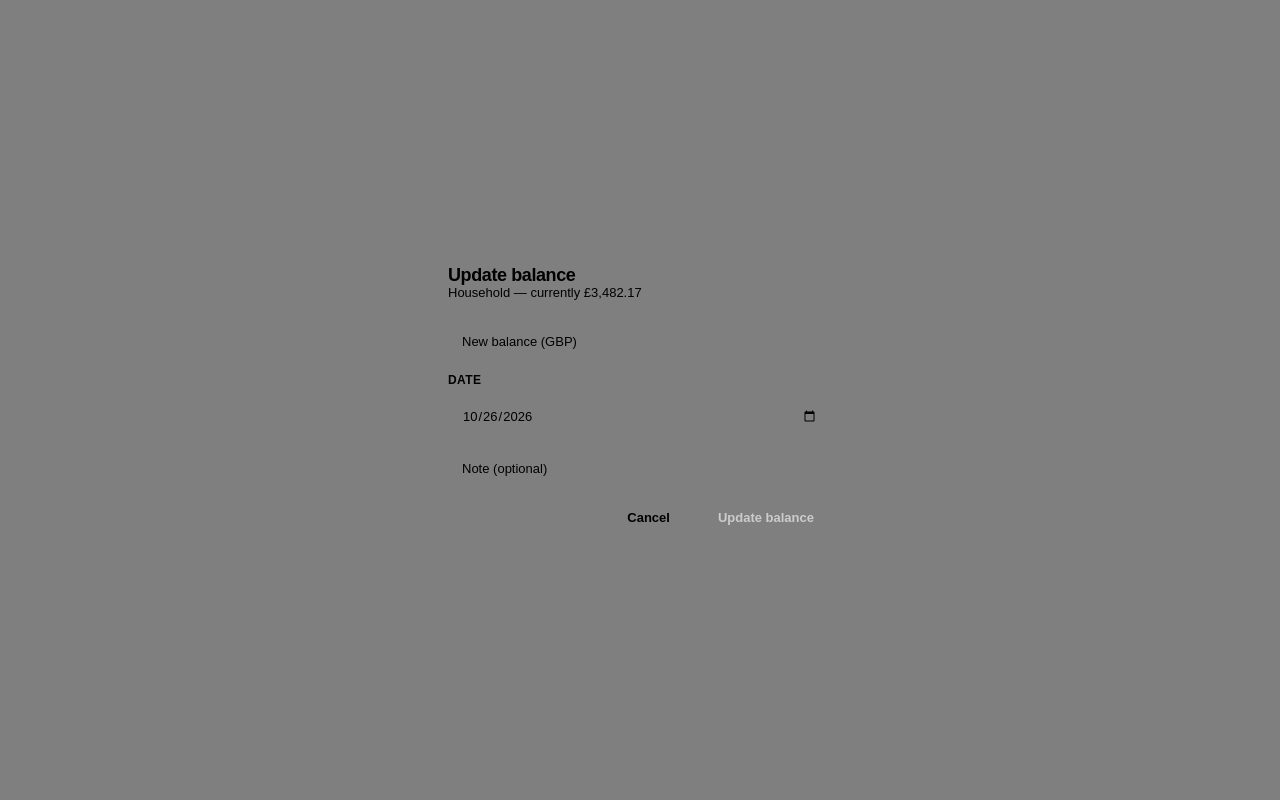
Test: UpdateBalanceModal › won't save a date in the future
This screenshot has width=1280, height=800.
Type "100" into the field labelled "New balance" at [640, 342], box [448, 322, 832, 362]
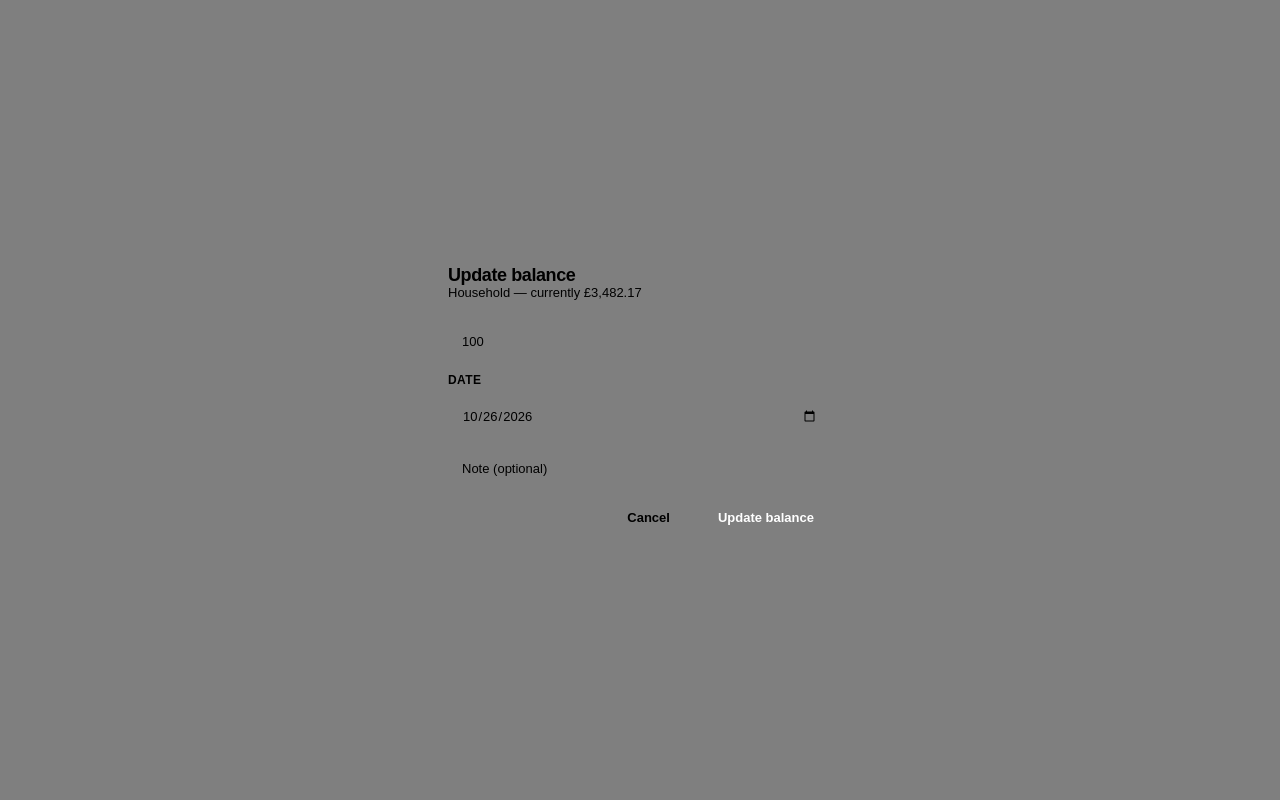
Type "2026-11-02" into the date field labelled "Date" at [640, 417], box [448, 396, 832, 437]
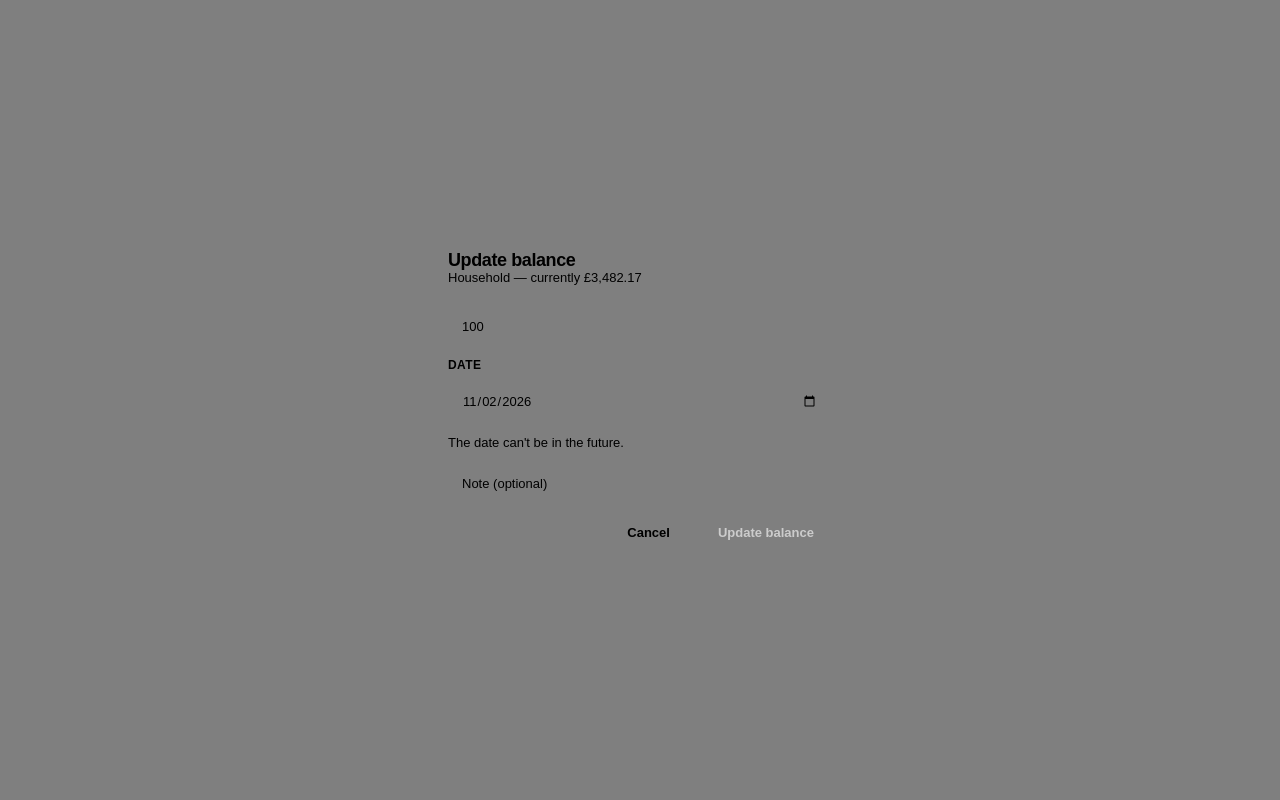
Expected: the text "The date can't be in the future." is shown, [448, 435, 624, 450]
Expected: the button "Update balance" is disabled, [700, 516, 832, 549]
